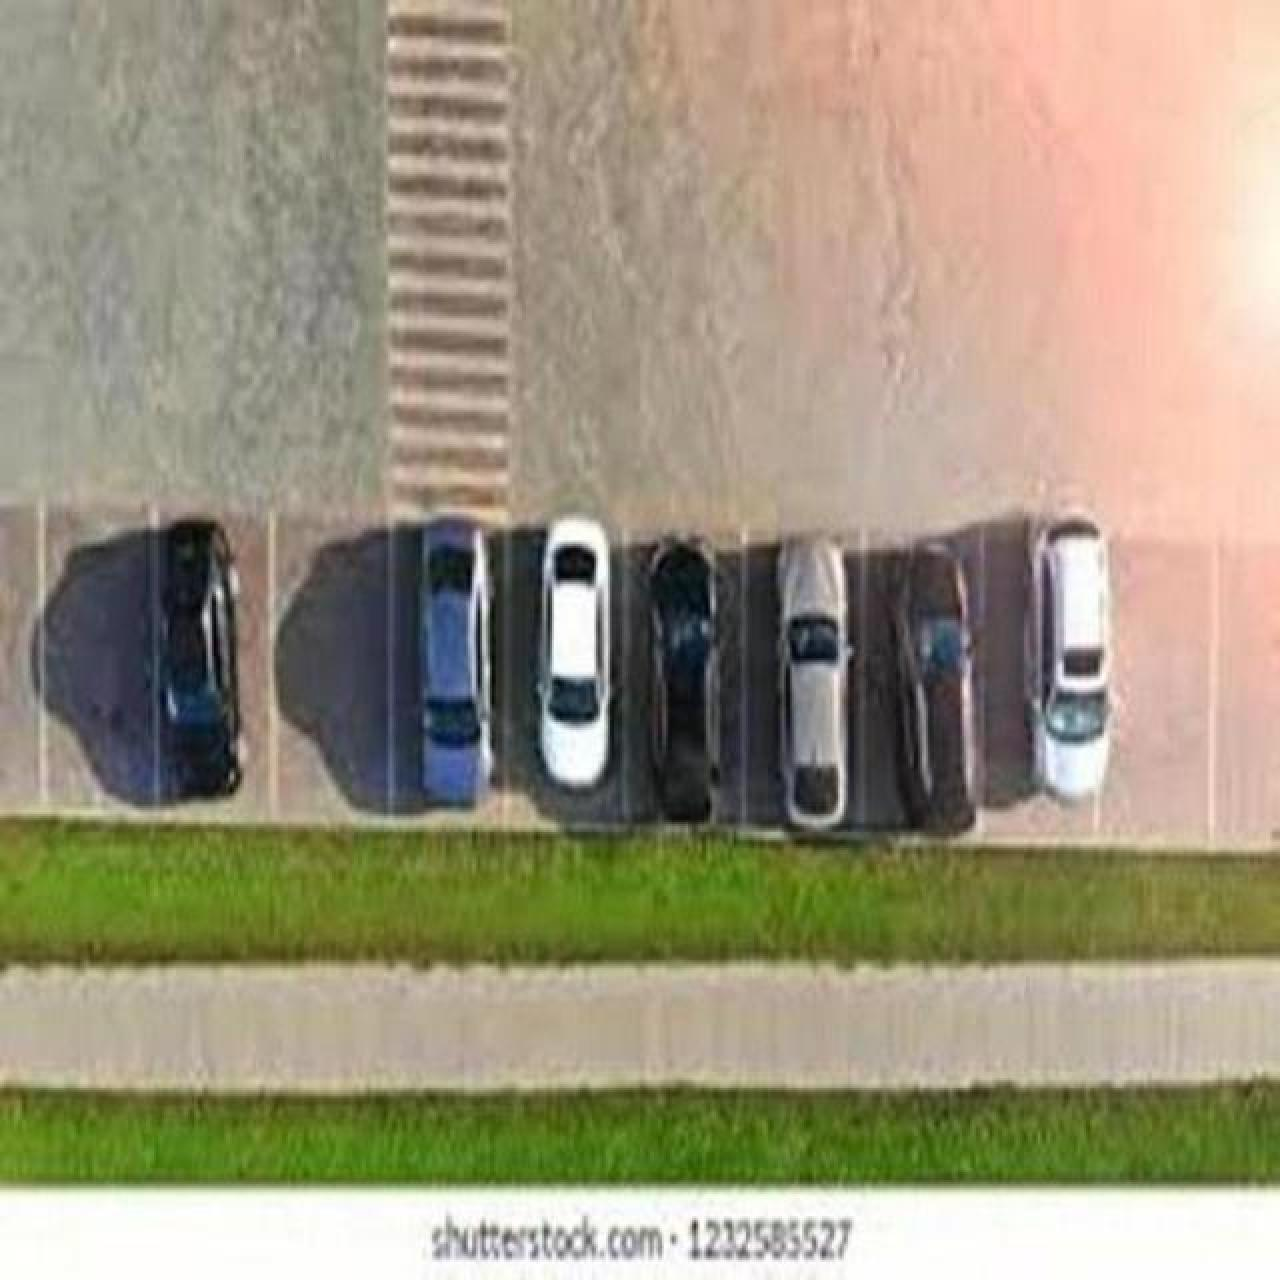car: (892, 538, 978, 836), (1024, 515, 1112, 802), (772, 532, 852, 830), (158, 518, 241, 798), (416, 516, 493, 806), (642, 535, 719, 824), (535, 516, 612, 790)
